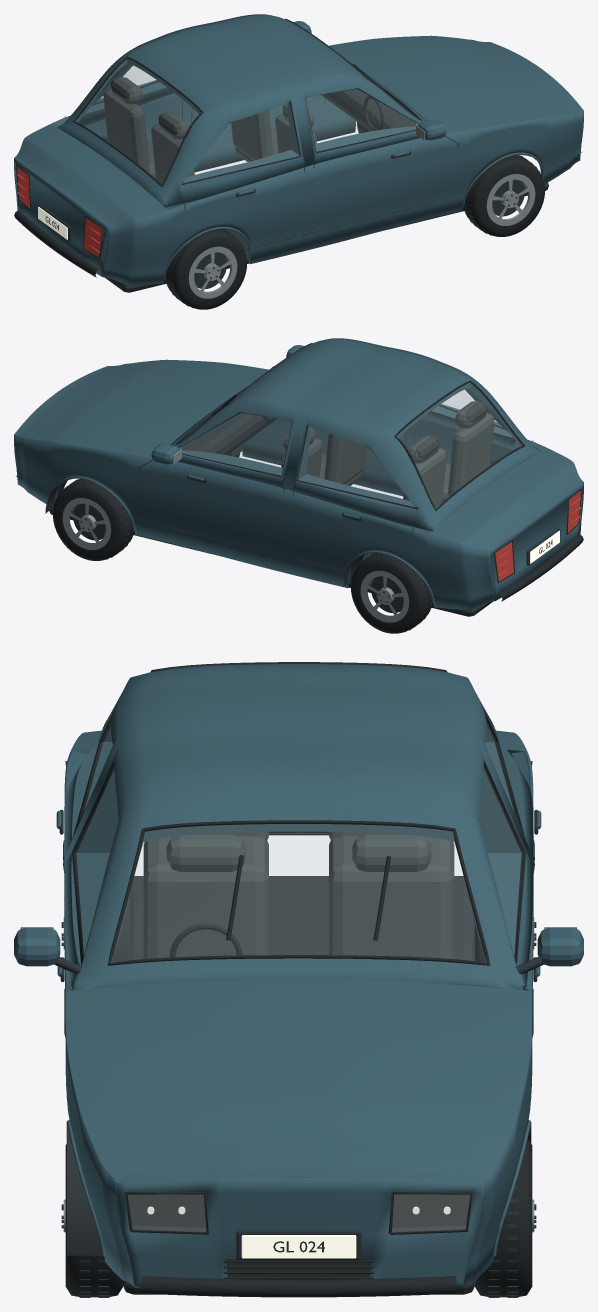
Rendered from compact-car.glb.
3 views of the same model, one above another, from view 1: azimuth 30°, elevation 25°; view 2: azimuth 150°, elevation 25°; view 3: azimuth 270°, elevation 25° (orthographic). The views are drawn at different scales.
Parts seen in each view (by area): view 1: Body__petrol blue enamel, Body__recessed window glass, Body__woven charcoal upholstery, Body__tires seals and soft trim, Body__dark chassis and lamp cavities, Front_road_wheel__tires seals and soft trim, Rear_road_wheel__tires seals and soft trim, Rear_road_wheel__brushed alloy and reflector, Front_road_wheel__brushed alloy and reflector, Body__red rear lens, Front_road_wheel__dark chassis and lamp cavities, Rear_road_wheel__dark chassis and lamp cavities (+1 smaller); view 2: Body__petrol blue enamel, Body__recessed window glass, Body__woven charcoal upholstery, Body__dark chassis and lamp cavities, Body__tires seals and soft trim, Rear_curb_wheel__tires seals and soft trim, Front_curb_wheel__tires seals and soft trim, Rear_curb_wheel__brushed alloy and reflector, Front_curb_wheel__brushed alloy and reflector, Body__red rear lens, Front_curb_wheel__dark chassis and lamp cavities, Rear_curb_wheel__dark chassis and lamp cavities (+1 smaller); view 3: Body__petrol blue enamel, Body__recessed window glass, Body__woven charcoal upholstery, Body__dark chassis and lamp cavities, Body__tires seals and soft trim, Body__clear headlamp lens, Front_curb_wheel__tires seals and soft trim, Body__headlamp bulb and plate, Front_road_wheel__tires seals and soft trim.
Boxes of the visible parts, box(x1,y1,x2,y2) form: Body__petrol blue enamel: box(14, 14, 583, 285); Body__recessed window glass: box(75, 59, 417, 183); Body__woven charcoal upholstery: box(103, 77, 316, 184); Body__tires seals and soft trim: box(14, 18, 581, 277); Body__dark chassis and lamp cavities: box(37, 89, 548, 292); Front_road_wheel__tires seals and soft trim: box(463, 155, 544, 236); Rear_road_wheel__tires seals and soft trim: box(165, 229, 246, 309); Rear_road_wheel__brushed alloy and reflector: box(188, 246, 237, 298); Front_road_wheel__brushed alloy and reflector: box(486, 174, 535, 225); Body__red rear lens: box(17, 166, 102, 257); Front_road_wheel__dark chassis and lamp cavities: box(464, 155, 539, 235); Rear_road_wheel__dark chassis and lamp cavities: box(166, 229, 241, 308); Body__petrol blue enamel: box(14, 338, 583, 609); Body__recessed window glass: box(180, 383, 521, 508); Body__woven charcoal upholstery: box(281, 401, 494, 509); Body__dark chassis and lamp cavities: box(45, 413, 560, 616); Body__tires seals and soft trim: box(16, 343, 583, 601); Rear_curb_wheel__tires seals and soft trim: box(351, 553, 432, 633); Front_curb_wheel__tires seals and soft trim: box(53, 479, 134, 560); Rear_curb_wheel__brushed alloy and reflector: box(360, 570, 409, 622); Front_curb_wheel__brushed alloy and reflector: box(62, 498, 111, 549); Body__red rear lens: box(495, 490, 580, 581); Front_curb_wheel__dark chassis and lamp cavities: box(58, 478, 133, 559); Rear_curb_wheel__dark chassis and lamp cavities: box(356, 553, 431, 632); Body__petrol blue enamel: box(14, 664, 583, 1288); Body__recessed window glass: box(75, 723, 522, 962); Body__woven charcoal upholstery: box(143, 832, 454, 958); Body__dark chassis and lamp cavities: box(54, 761, 543, 1294); Body__tires seals and soft trim: box(72, 662, 525, 1297); Body__clear headlamp lens: box(127, 1194, 470, 1232); Front_curb_wheel__tires seals and soft trim: box(475, 1138, 532, 1297); Body__headlamp bulb and plate: box(147, 1206, 450, 1258); Front_road_wheel__tires seals and soft trim: box(65, 1144, 122, 1297).
Bounding box in the file's own units: 4.08 × 1.51 × 2.09.
